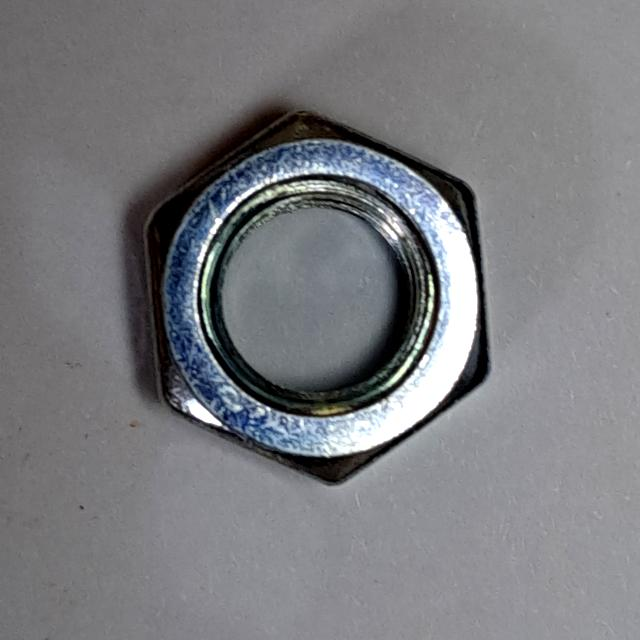Excellent: (128, 87, 506, 502)
